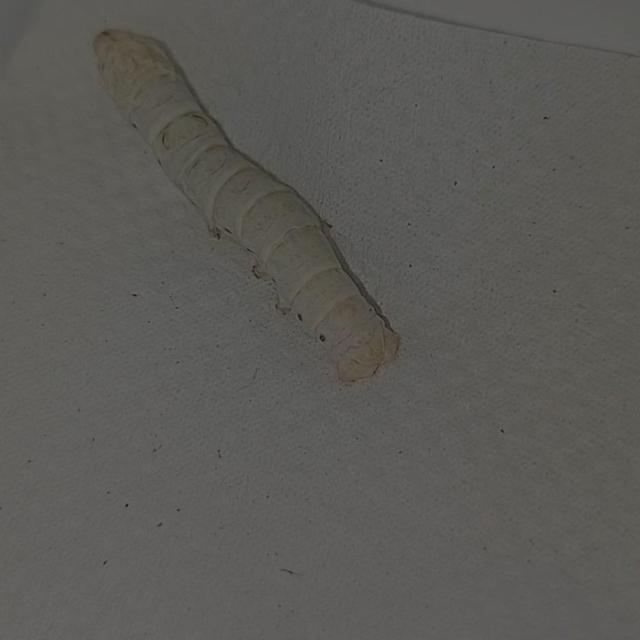Healthy: (72, 7, 444, 403)
